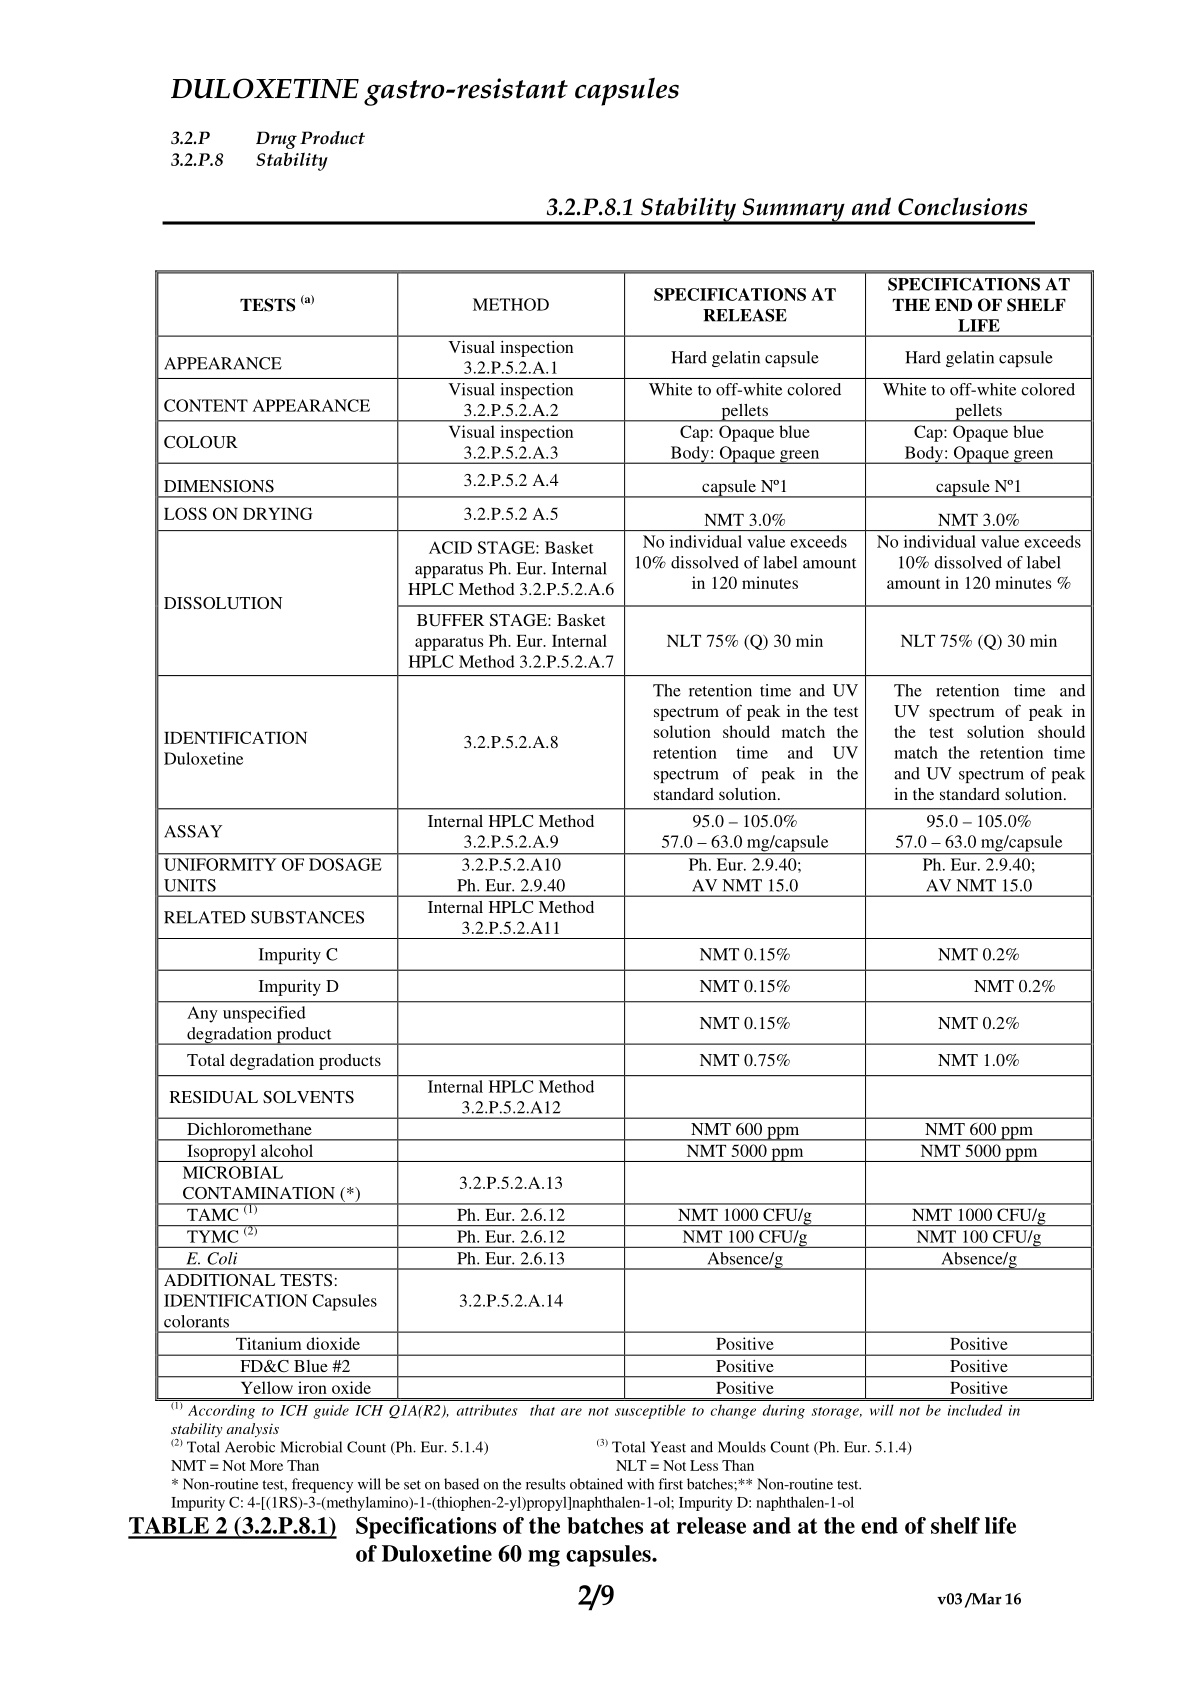full_lined: (155, 269, 1096, 1401)
